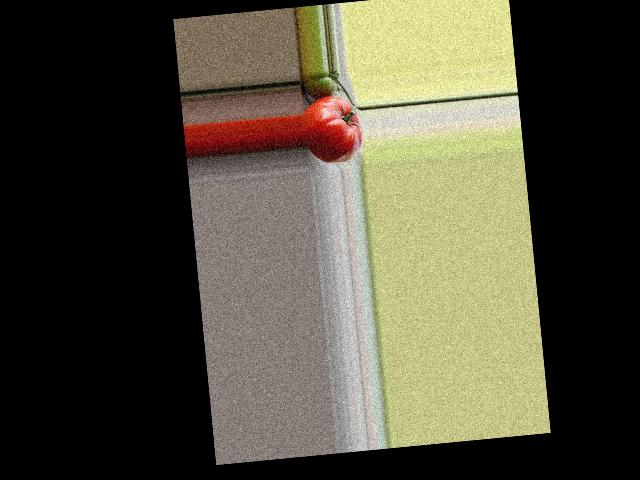tomato: (300, 94, 364, 166)
